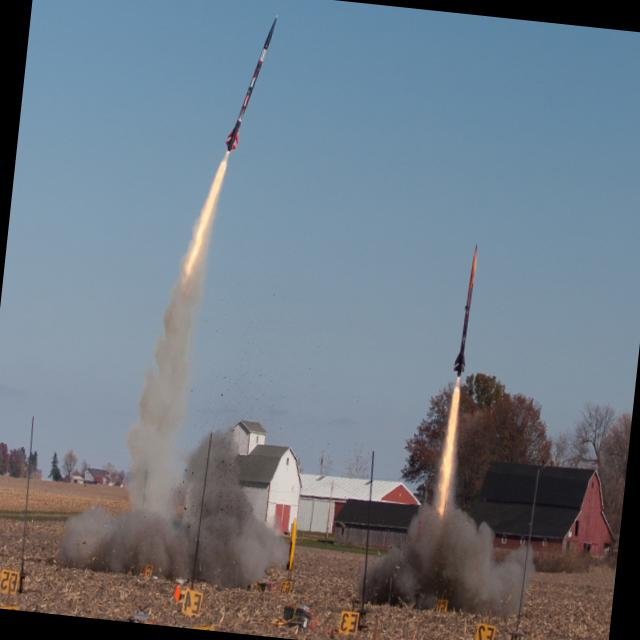rocket: (441, 239, 487, 483)
